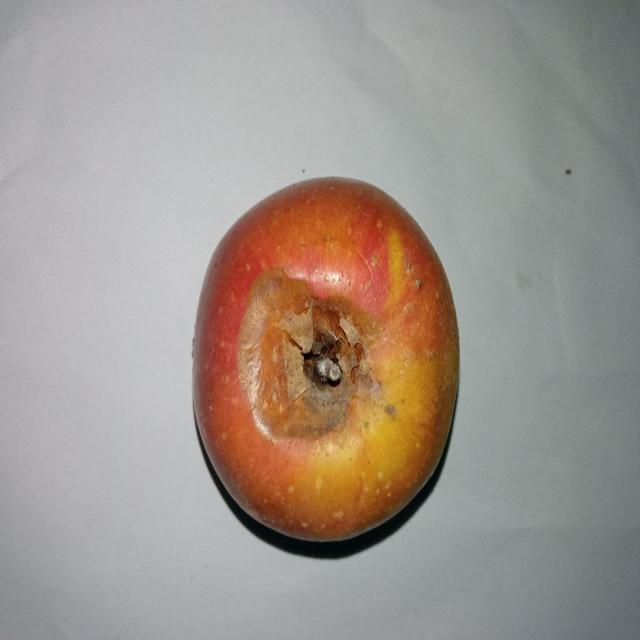rotten_apple: (190, 175, 460, 542)
